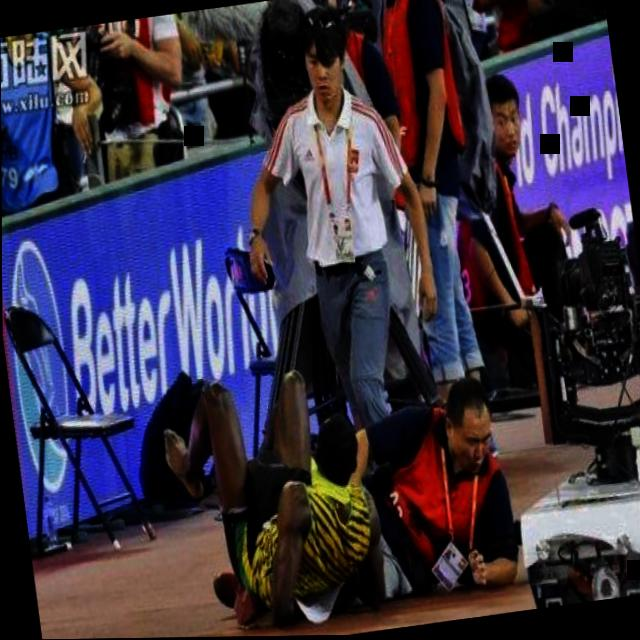Fall-Detected: (148, 340, 359, 638)
